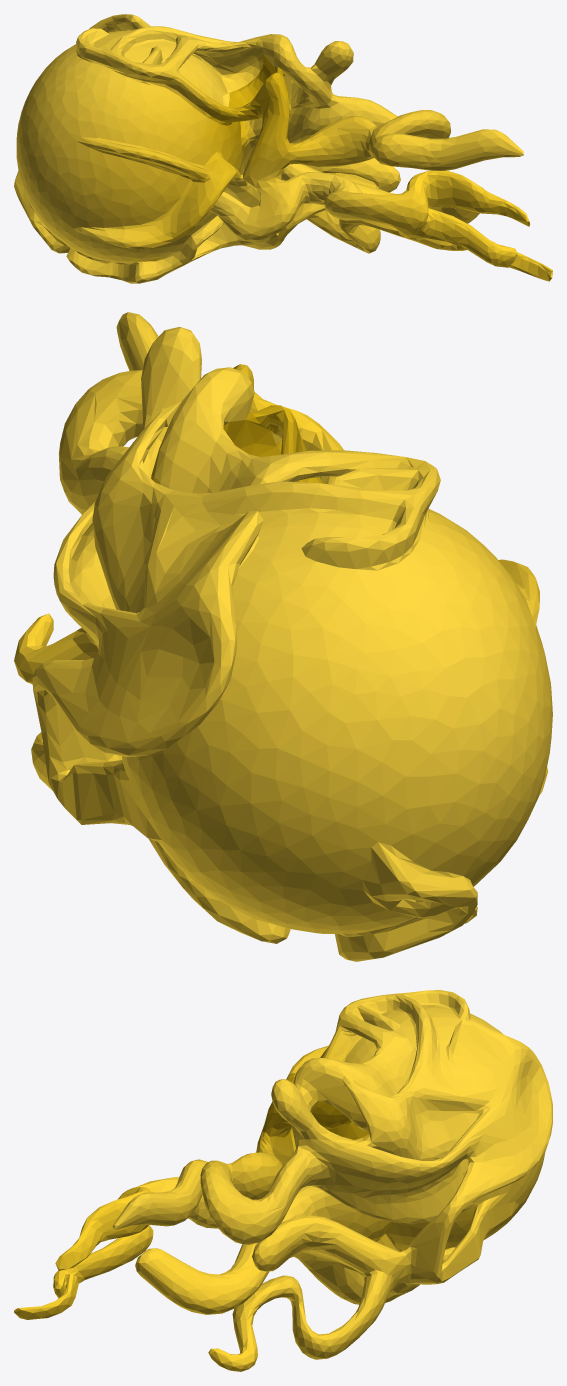
3 renders of one model, top to bottom at view 1: azimuth 30°, elevation 25°; view 2: azimuth 150°, elevation 25°; view 3: azimuth 270°, elevation 25°, orthographic. The views are drawn at different scales.
Bounding box in the file's own units: 2.61 × 1.7 × 3.17.
Materials: 1 (1 with a texture image).
